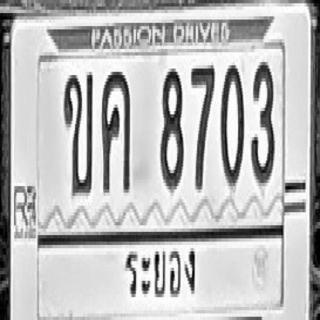A02: (63, 70, 93, 194)
A04: (102, 68, 130, 192)
N00: (220, 62, 244, 186)
N03: (251, 59, 274, 183)
N07: (190, 62, 214, 189)
N08: (160, 65, 184, 189)
P53: (124, 246, 198, 309)
